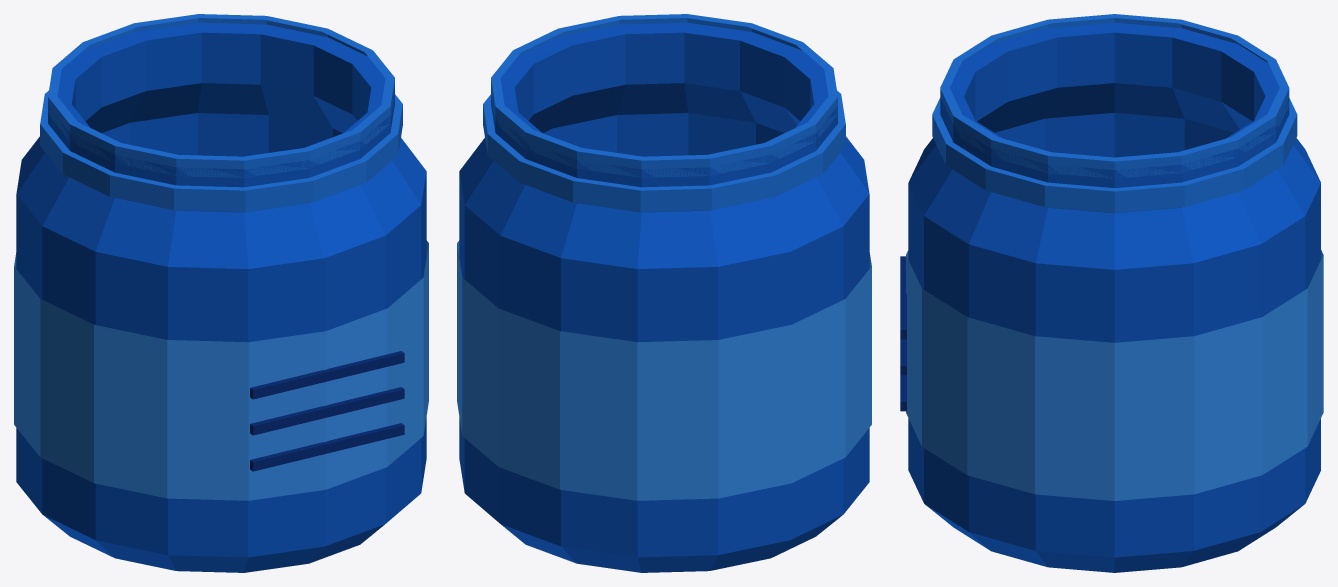
The model's file is Glass_AmberJar.fbx.
3 views of the same model, side by side, from view 1: azimuth 30°, elevation 25°; view 2: azimuth 150°, elevation 25°; view 3: azimuth 270°, elevation 25° (orthographic).
Visible parts, largest first — view 1: Glass_AmberJar; view 2: Glass_AmberJar; view 3: Glass_AmberJar.
Boxes of the visible parts, <box> form: Glass_AmberJar: <box>14,14,428,572</box>; Glass_AmberJar: <box>457,14,871,572</box>; Glass_AmberJar: <box>900,14,1323,572</box>.
Size of the model in its own units: 71.73 by 78 by 72.68.
